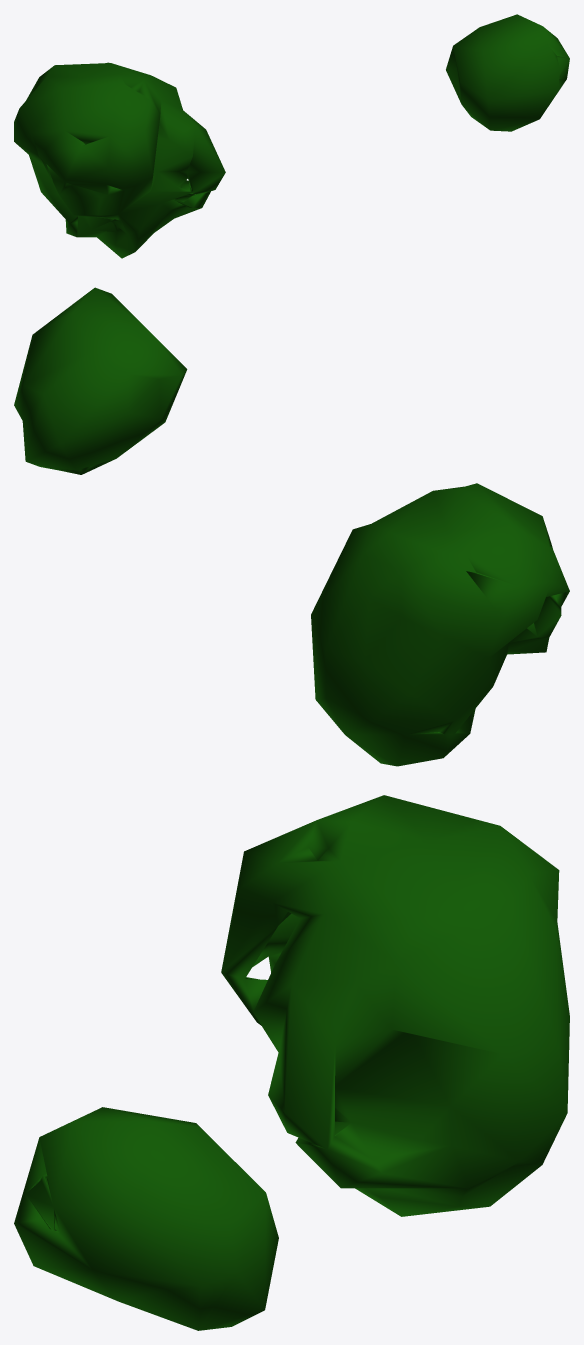
Rendered from lesion.obj.
3 views of the same model, one above another, from view 1: azimuth 30°, elevation 25°; view 2: azimuth 150°, elevation 25°; view 3: azimuth 270°, elevation 25° (orthographic). The views are drawn at different scales.
Parts seen in each view (by area): view 1: Lesion; view 2: Lesion; view 3: Lesion.
Boxes of the visible parts, x1,y1,x2,y2 form: Lesion: (14, 14, 569, 258); Lesion: (14, 287, 569, 766); Lesion: (14, 795, 569, 1330).
Bounding box in the file's own units: 83.41 × 36.59 × 45.18.
